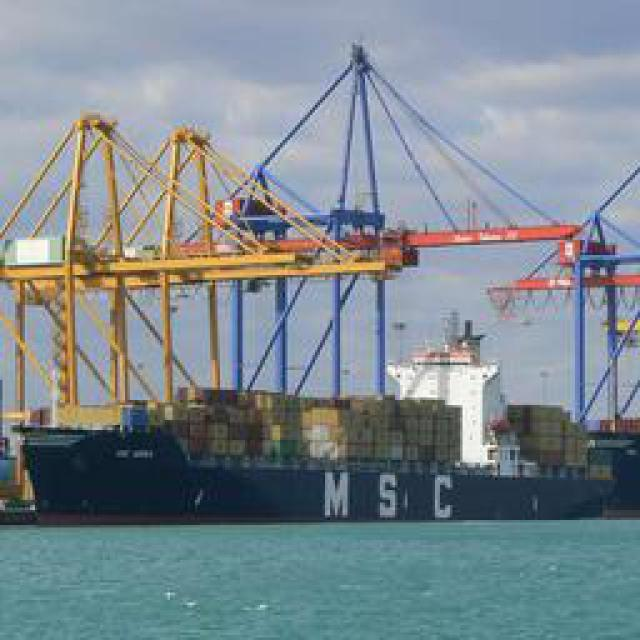Ship: (1, 373, 624, 526)
